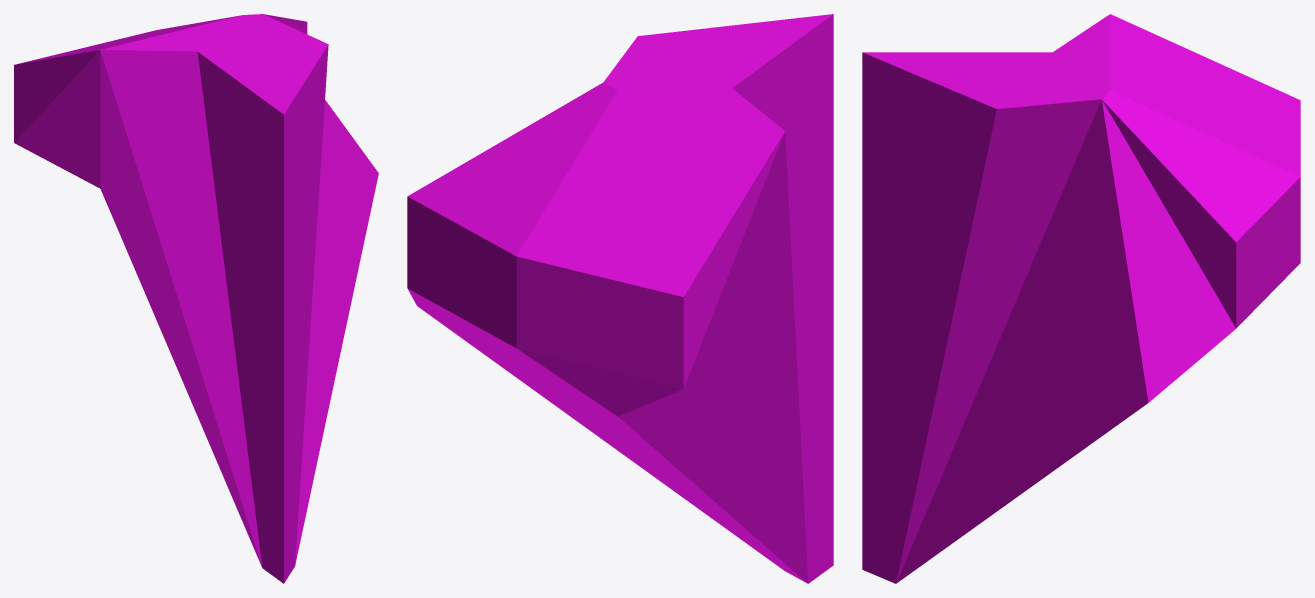
The model's file is gem_shard.glb.
3 views of the same model, side by side, from view 1: azimuth 30°, elevation 25°; view 2: azimuth 150°, elevation 25°; view 3: azimuth 270°, elevation 25° (orthographic). The views are drawn at different scales.
Visible parts, largest first — view 1: Shard; view 2: Shard; view 3: Shard.
Part boxes in pixels (<box>): Shard: <box>14,14,378,583</box>; Shard: <box>407,14,833,583</box>; Shard: <box>862,14,1300,583</box>.
Bounding box in the file's own units: 0.198 × 0.3 × 0.2303.
